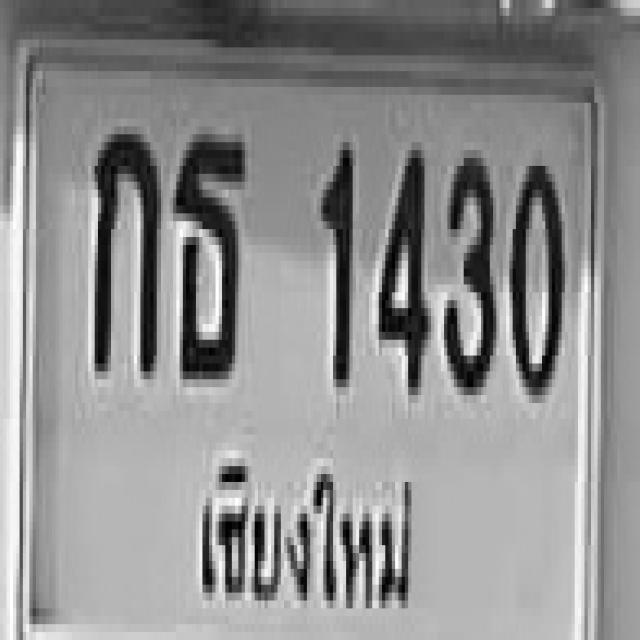0: (506, 154, 562, 391)
1: (317, 134, 349, 380)
10GorGai: (91, 126, 157, 372)
3: (441, 150, 493, 387)
33ThorThong: (173, 126, 245, 372)
4: (376, 142, 424, 387)
ChiangMai: (188, 438, 422, 624)
